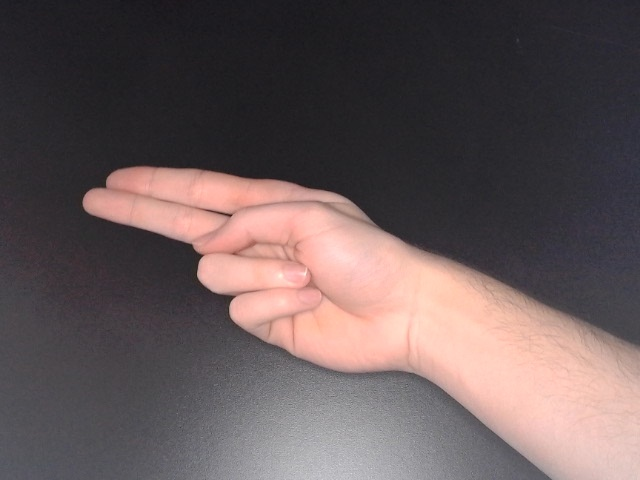h: (78, 162, 437, 389)
